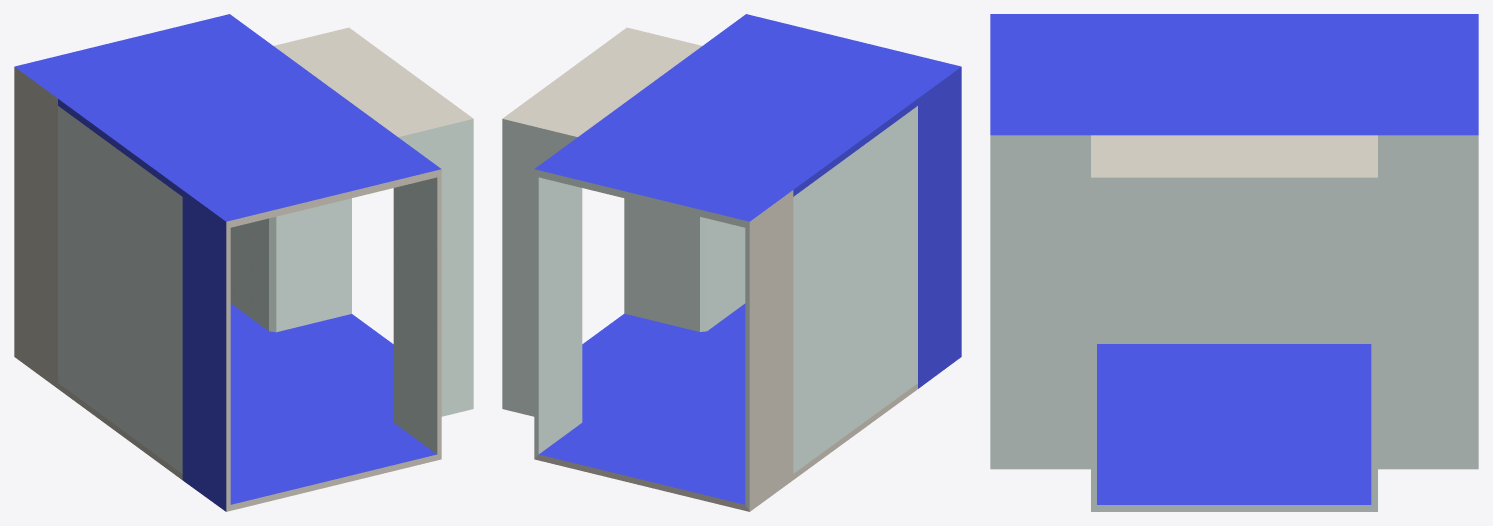
The model's file is TCorner.fbx.
3 renders of one model, left to right at view 1: azimuth 30°, elevation 25°; view 2: azimuth 150°, elevation 25°; view 3: azimuth 270°, elevation 25°, orthographic. The views are drawn at different scales.
Visible parts, largest first — view 1: TCorner; view 2: TCorner; view 3: TCorner.
Boxes of the visible parts, x1=… form: TCorner: x1=14, y1=14, x2=473, y2=511; TCorner: x1=502, y1=14, x2=961, y2=511; TCorner: x1=990, y1=14, x2=1478, y2=511.
Bounding box in the file's own units: 1155 × 1101 × 1456.
